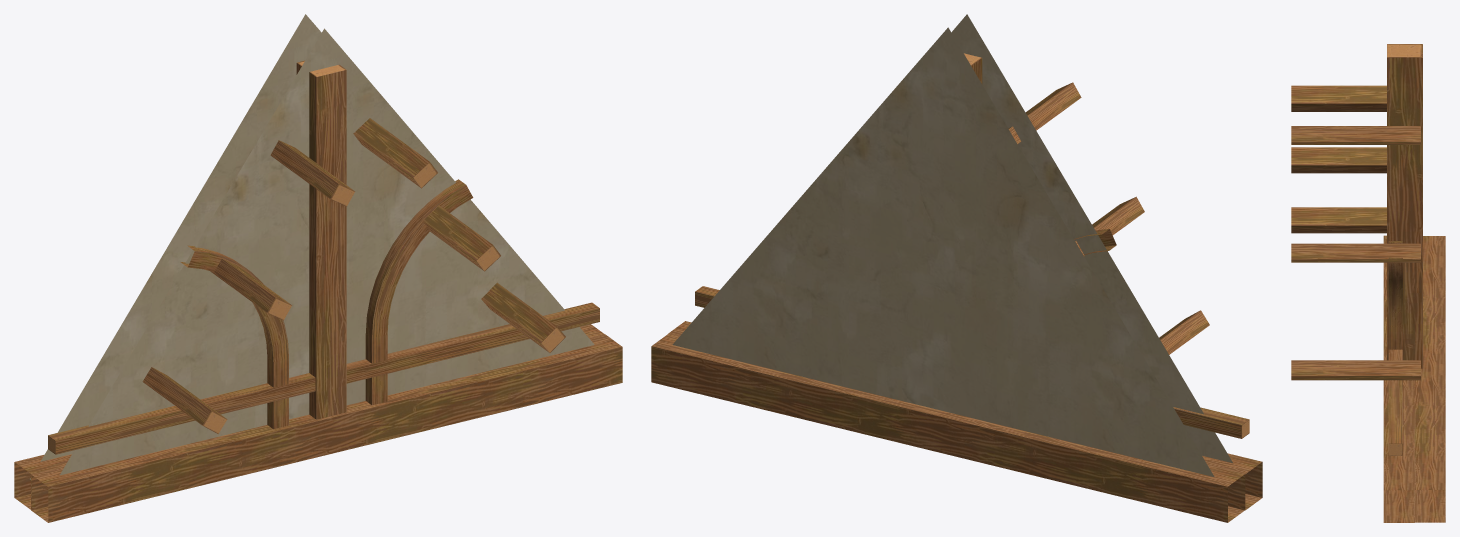
Rendered from Roof_Front_Brick4.glb.
3 renders of one model, left to right at view 1: azimuth 30°, elevation 25°; view 2: azimuth 150°, elevation 25°; view 3: azimuth 270°, elevation 25°, orthographic. The views are drawn at different scales.
Visible parts, largest first — view 1: Roof_Front_Brick4; view 2: Roof_Front_Brick4; view 3: Roof_Front_Brick4.
Boxes of the visible parts, x1=… form: Roof_Front_Brick4: x1=14, y1=14, x2=622, y2=522; Roof_Front_Brick4: x1=651, y1=14, x2=1262, y2=522; Roof_Front_Brick4: x1=1291, y1=44, x2=1445, y2=522.
Bounding box in the file's own units: 4.4 × 3.07 × 1.13.
Materials: 2 (2 with a texture image).
